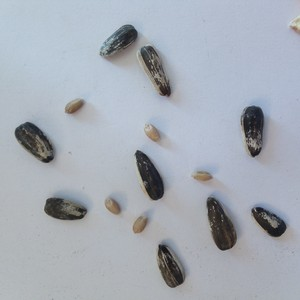girasol: (203, 194, 239, 252), (135, 45, 174, 98), (131, 147, 168, 202), (12, 120, 56, 165), (236, 104, 269, 160), (155, 241, 188, 290), (97, 22, 137, 62), (39, 194, 91, 223), (249, 205, 287, 239)
trigo: (141, 120, 163, 144), (61, 96, 84, 118), (188, 166, 215, 184), (100, 194, 121, 217), (130, 211, 149, 236)
